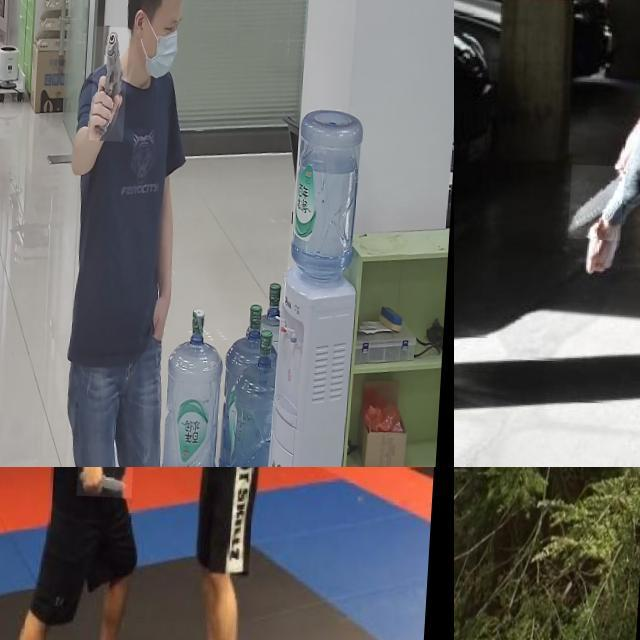-: (454, 467, 567, 640), (572, 162, 628, 238), (82, 467, 138, 494)
gun-knife-thesis - v11 Yolov5 augmented: (92, 23, 130, 139)
